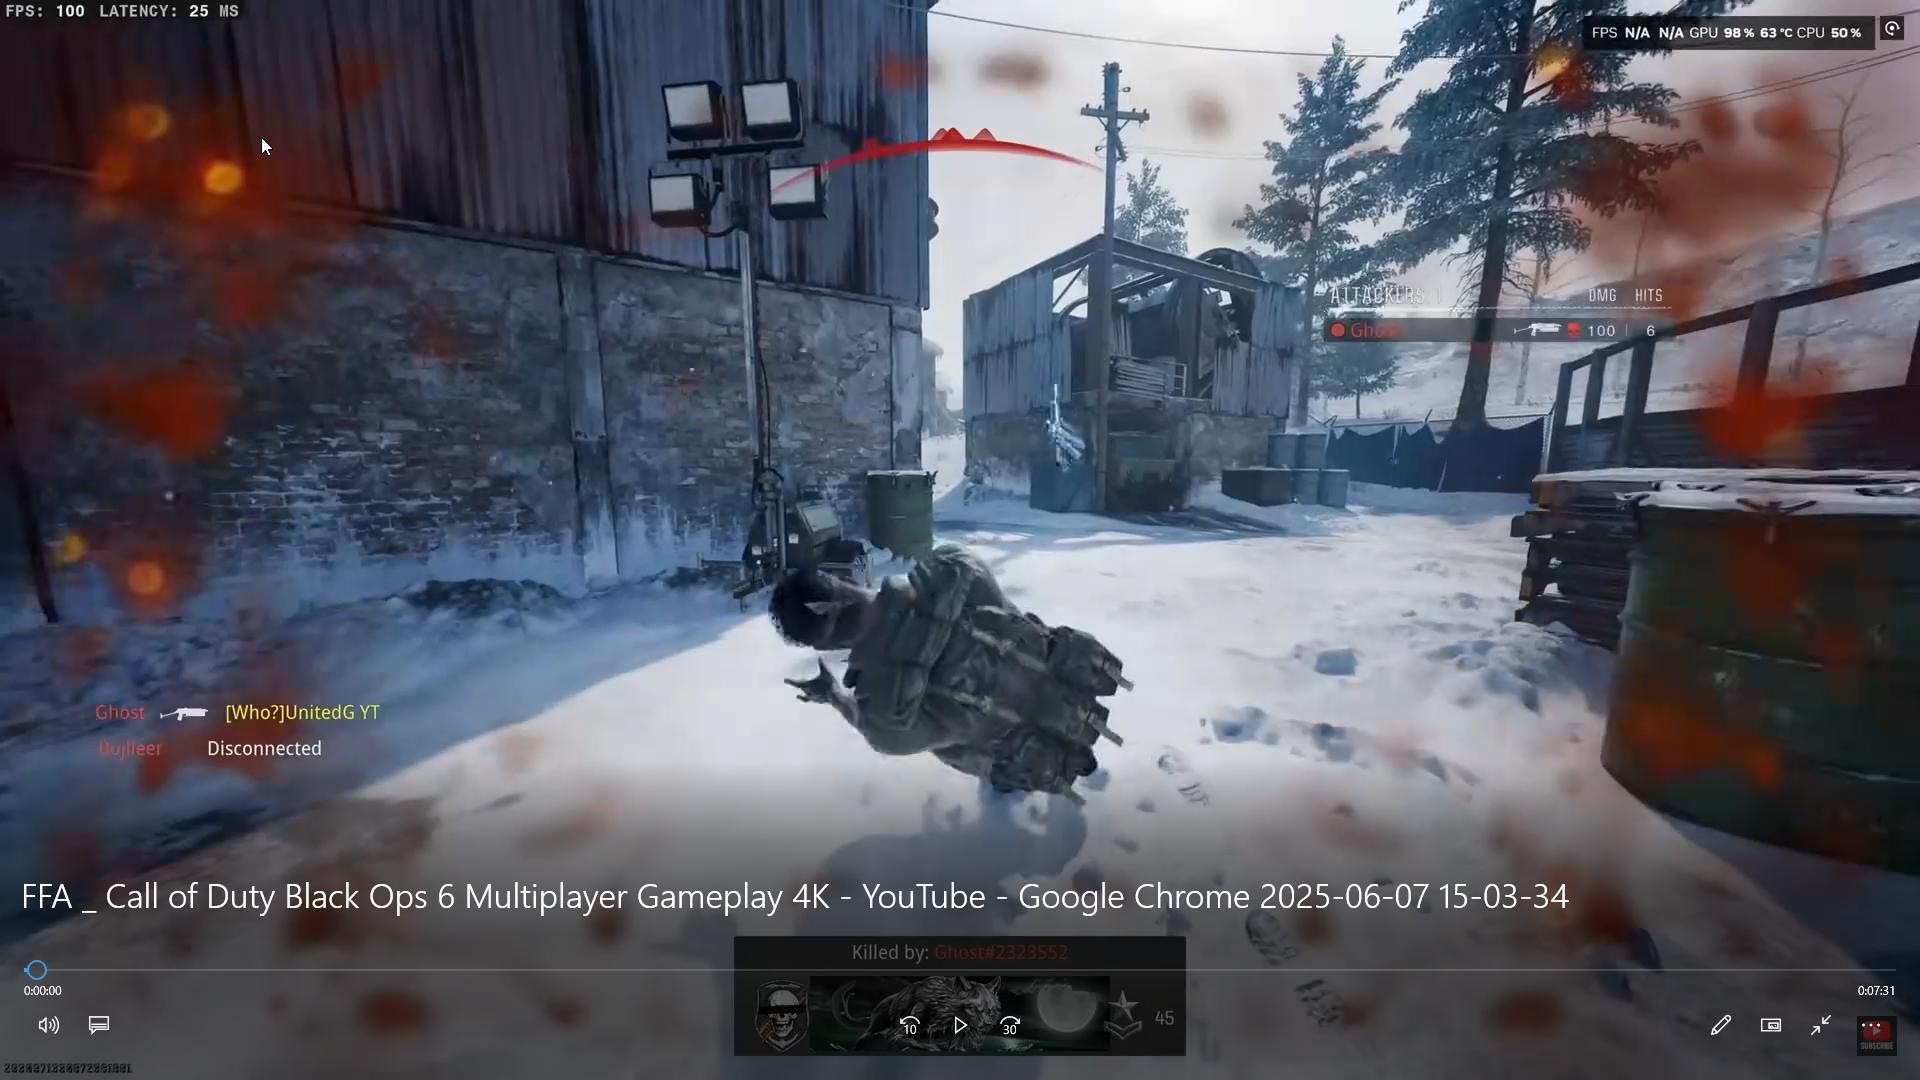Enemy: (961, 452, 996, 506)
